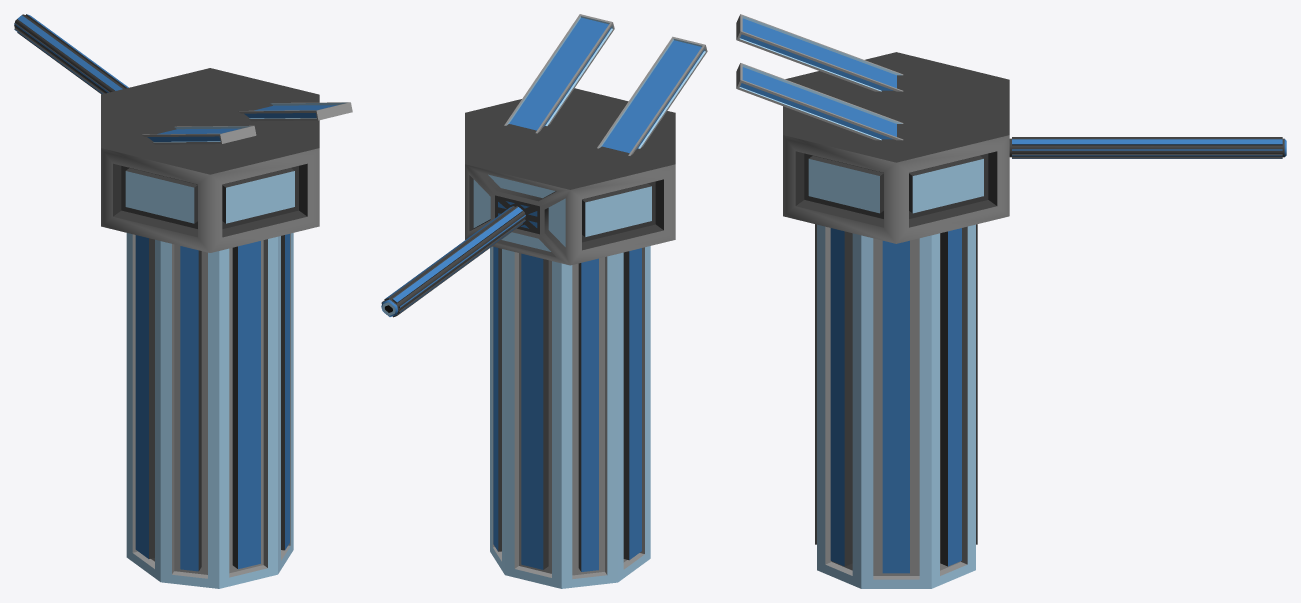
The model's file is Tower.fbx.
The picture shows the model from 3 angles, left to right: view 1: azimuth 30°, elevation 25°; view 2: azimuth 150°, elevation 25°; view 3: azimuth 270°, elevation 25°; orthographic projection. The views are drawn at different scales.
Parts seen in each view (by area): view 1: Bot, Cylindre, Cube_1; view 2: Bot, Cylindre, Cube_1; view 3: Bot, Cylindre, Cube_1.
Part boxes in pixels (<box>): Bot: <box>126,233,293,588</box>; Cylindre: <box>14,14,319,252</box>; Cube_1: <box>142,102,352,144</box>; Bot: <box>490,246,650,588</box>; Cylindre: <box>381,88,675,317</box>; Cube_1: <box>504,14,707,155</box>; Bot: <box>815,224,977,588</box>; Cylindre: <box>783,52,1286,243</box>; Cube_1: <box>736,14,903,140</box>.
Size of the model in its own units: 36.94 by 79.14 by 77.64.
